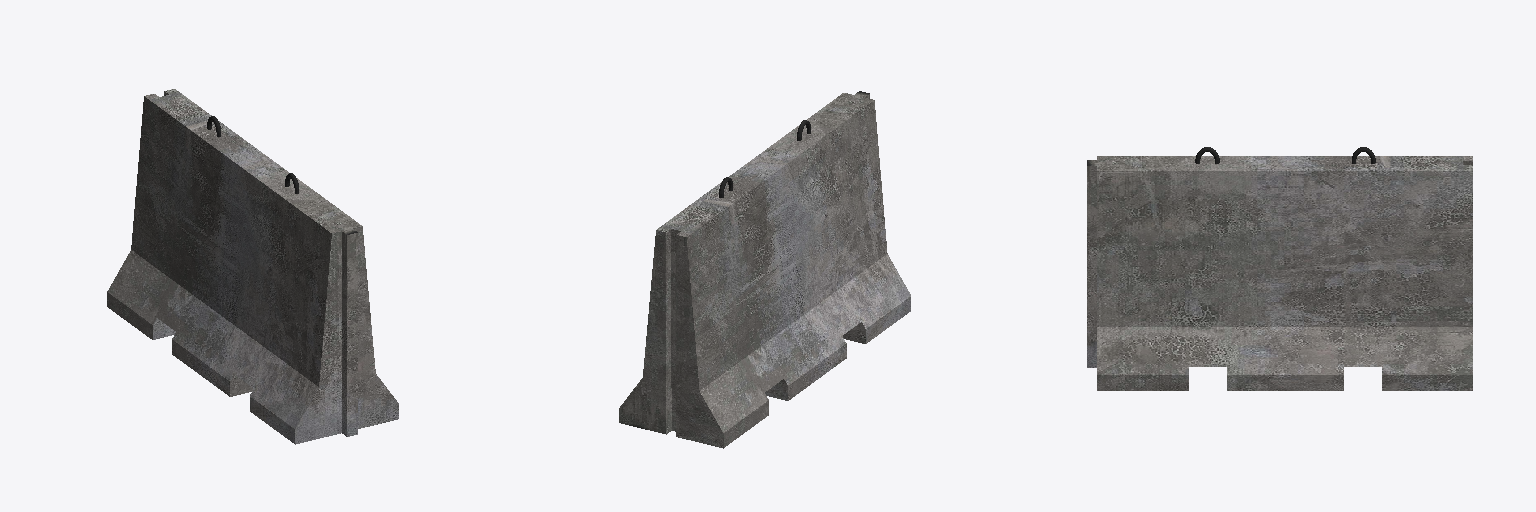
3 views of the same model, side by side, from view 1: azimuth 30°, elevation 25°; view 2: azimuth 150°, elevation 25°; view 3: azimuth 270°, elevation 25° (orthographic).
Parts seen in each view (by area): view 1: Concrete_Barricade_LP; view 2: Concrete_Barricade_LP; view 3: Concrete_Barricade_LP.
Part boxes in pixels (x1,y1,x2,y2): Concrete_Barricade_LP: (107,89,398,444); Concrete_Barricade_LP: (619,91,910,448); Concrete_Barricade_LP: (1087,147,1472,390).
Bounding box in the file's own units: 0.3602 × 0.72 × 1.16.
1 materials, 1 textured.